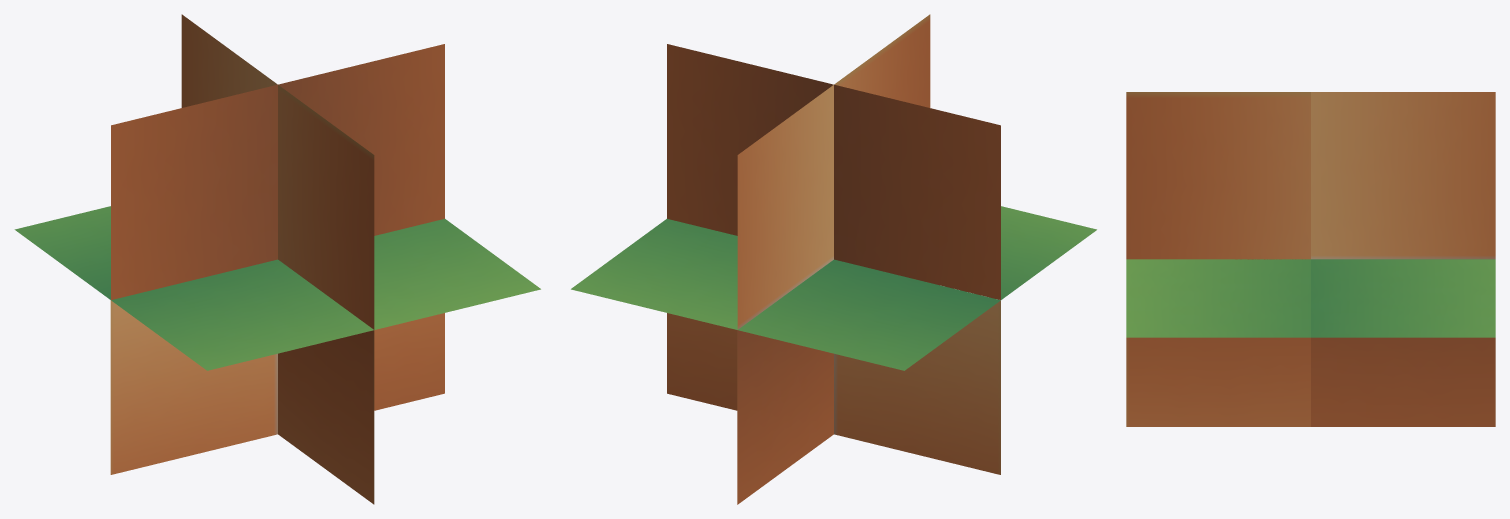
3 renders of one model, left to right at view 1: azimuth 30°, elevation 25°; view 2: azimuth 150°, elevation 25°; view 3: azimuth 270°, elevation 25°, orthographic. The views are drawn at different scales.
Parts seen in each view (by area): view 1: 01011010; view 2: 01011010; view 3: 01011010.
Part boxes in pixels (bbox=[...]): 01011010: bbox=[14, 14, 540, 504]; 01011010: bbox=[571, 14, 1096, 504]; 01011010: bbox=[1126, 92, 1495, 426].
Size of the model in its own units: 1 by 1 by 1.
1 material, 1 textured.
